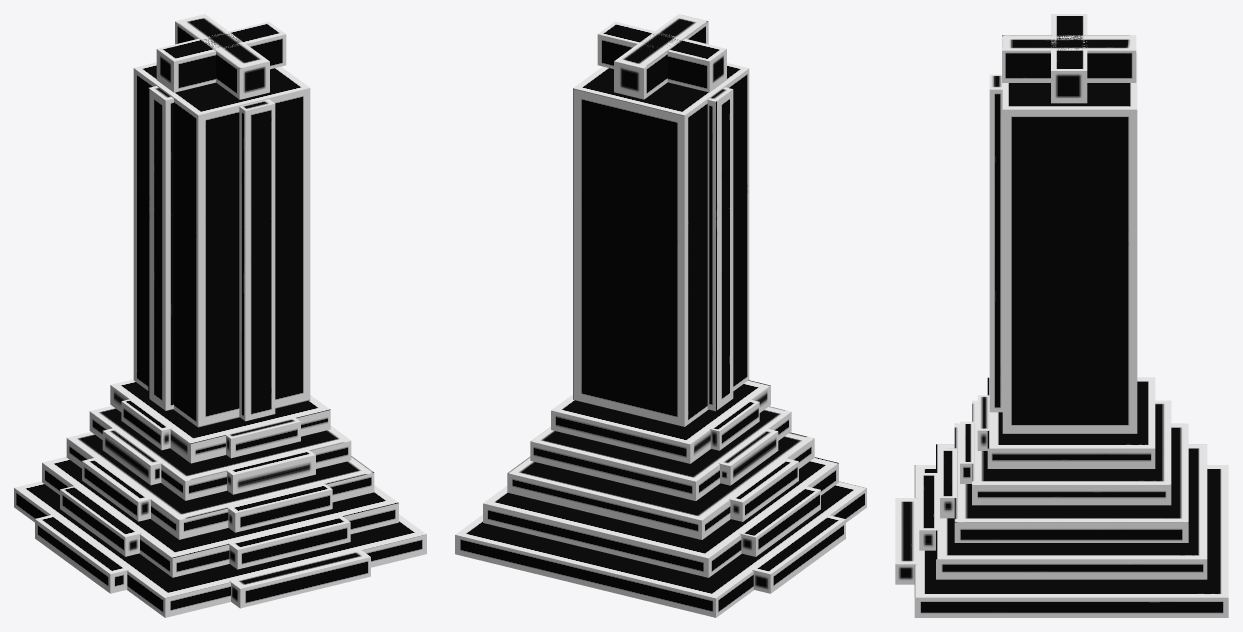
Rendered from Cornertower_outer.FBX.
The picture shows the model from 3 angles, left to right: view 1: azimuth 30°, elevation 25°; view 2: azimuth 150°, elevation 25°; view 3: azimuth 270°, elevation 25°; orthographic projection. The views are drawn at different scales.
Visible parts, largest first — view 1: CornerTowerMid, CornerTowerBase, CornerTowerBase1, CornerTowerBase2, CornerTowerBase3, CornerTowerBase4, Box002, Box001; view 2: CornerTowerMid, CornerTowerBase, CornerTowerBase1, CornerTowerBase2, CornerTowerBase3, CornerTowerBase4, Box002, Box001; view 3: CornerTowerMid, CornerTowerBase, CornerTowerBase1, CornerTowerBase2, CornerTowerBase3, CornerTowerBase4, Box001, Box002.
Part boxes in pixels (x1,y1,x2,y2): CornerTowerMid: (133,62,310,427); CornerTowerBase: (14,481,426,617); CornerTowerBase1: (42,456,398,577); CornerTowerBase2: (66,432,374,539); CornerTowerBase3: (89,406,351,500); CornerTowerBase4: (110,379,330,463); Box002: (156,21,286,92); Box001: (175,14,269,99); CornerTowerMid: (573,63,749,426); CornerTowerBase: (455,481,866,617); CornerTowerBase1: (483,457,838,577); CornerTowerBase2: (507,432,814,539); CornerTowerBase3: (530,406,791,500); CornerTowerBase4: (551,380,770,463); Box002: (597,21,726,92); Box001: (614,14,708,99); CornerTowerMid: (989,52,1137,433); CornerTowerBase: (895,465,1228,617); CornerTowerBase1: (919,444,1207,579); CornerTowerBase2: (940,423,1188,542); CornerTowerBase3: (960,400,1171,505); CornerTowerBase4: (977,377,1155,468); Box001: (1002,35,1136,82); Box002: (1051,14,1087,103).
Size of the model in its own units: 1.89 by 3.18 by 1.89.
